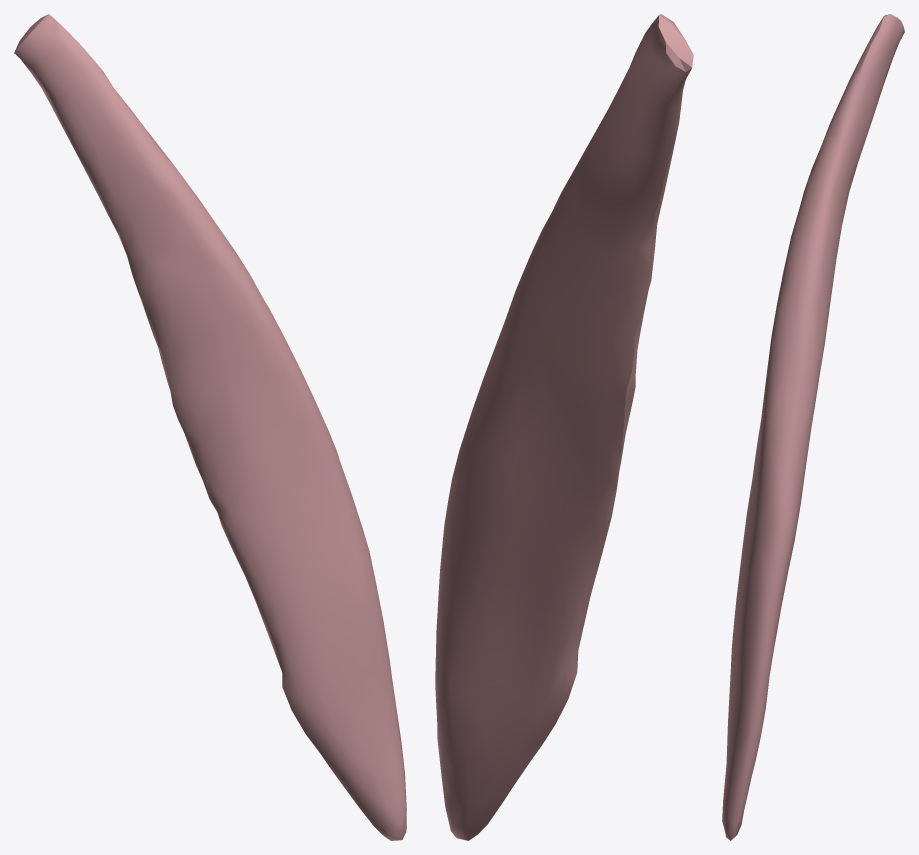
The model's file is fma38586_mm1883m.glb.
3 views of the same model, side by side, from view 1: azimuth 30°, elevation 25°; view 2: azimuth 150°, elevation 25°; view 3: azimuth 270°, elevation 25° (orthographic). The views are drawn at different scales.
Parts seen in each view (by area): view 1: FMA38586_MM1883M; view 2: FMA38586_MM1883M; view 3: FMA38586_MM1883M.
Boxes of the visible parts, left/top/right/bottom form: FMA38586_MM1883M: left=14, top=14, right=406, bottom=840; FMA38586_MM1883M: left=435, top=14, right=693, bottom=840; FMA38586_MM1883M: left=722, top=14, right=904, bottom=840.
Size of the model in its own units: 0.0613 by 0.1606 by 0.0372.
